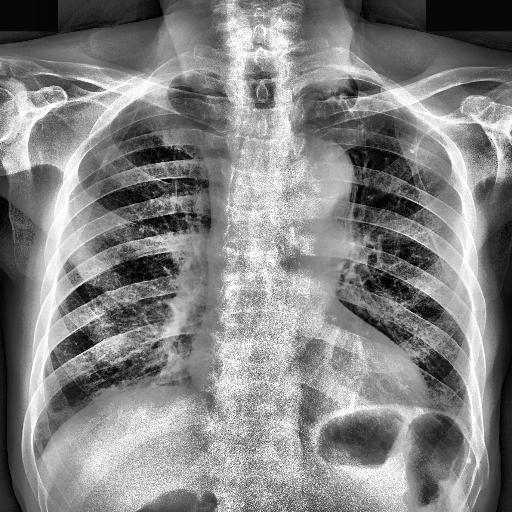0- Aortic enlargement: (260, 132, 354, 222), (278, 133, 352, 211), (284, 134, 352, 212)
11- Pleural thickening: (290, 78, 344, 133), (192, 84, 226, 96)
13- Pulmonary fibrosis: (334, 92, 372, 154)
3- Cardiomegaly: (186, 330, 429, 412), (186, 336, 429, 416)
8- Nodule-Mass: (408, 148, 416, 154), (466, 456, 472, 464)
